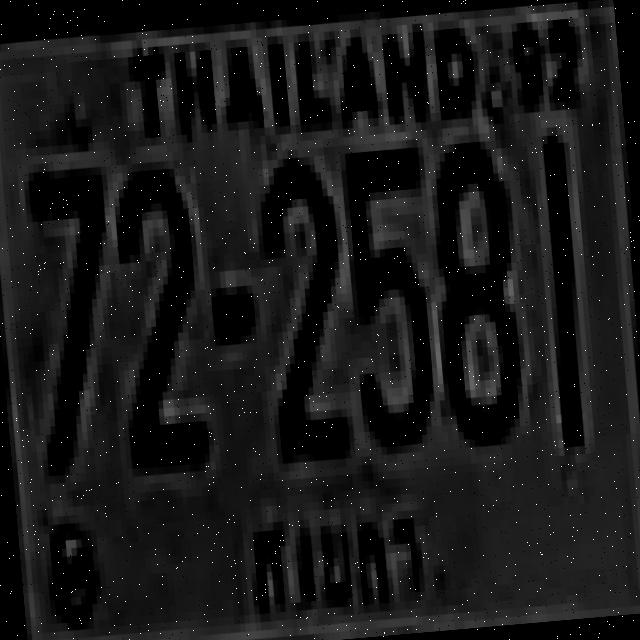1: (534, 130, 586, 443)
2: (104, 163, 206, 464), (251, 150, 350, 460)
5: (333, 139, 438, 448)
7: (22, 162, 122, 472)
8: (422, 132, 520, 440)
Songkhla: (229, 480, 439, 640)
